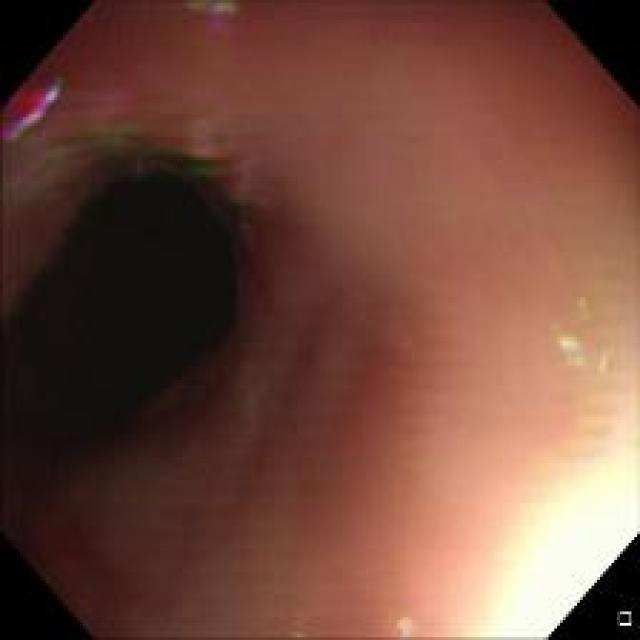color misalignment: (2, 115, 254, 202), (550, 289, 631, 398), (6, 78, 65, 142), (185, 1, 254, 24), (386, 606, 431, 636), (291, 609, 305, 638)
contrast: (8, 111, 268, 512)
saturation: (432, 446, 638, 639)
